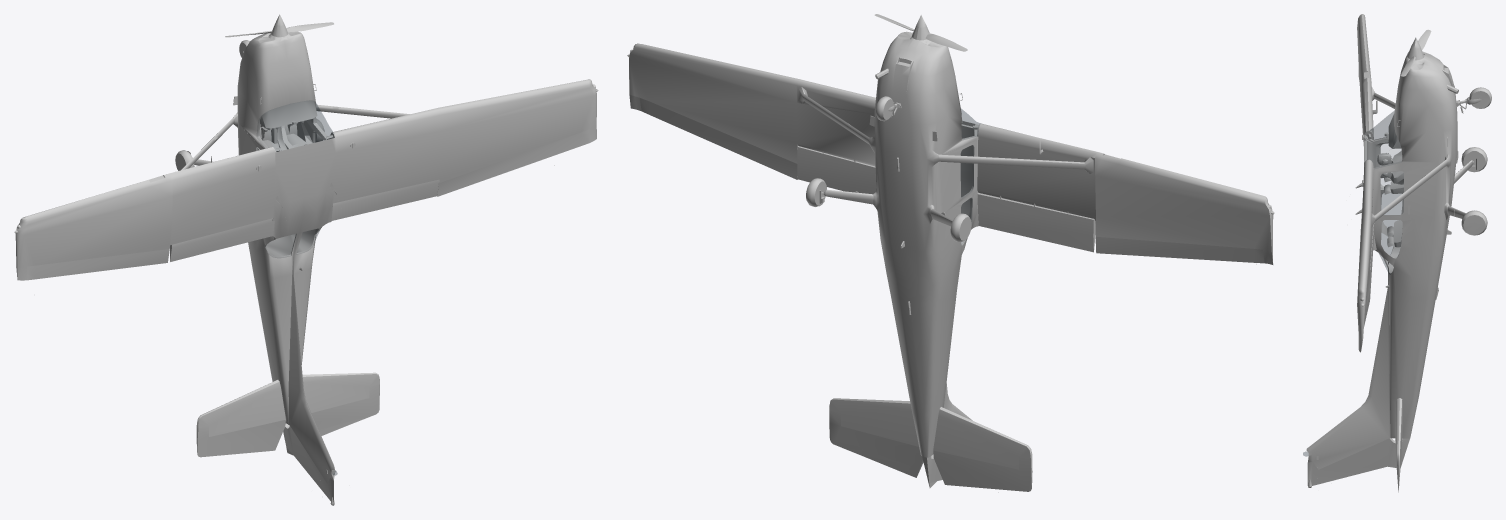
3 renders of one model, left to right at view 1: azimuth 30°, elevation 25°; view 2: azimuth 150°, elevation 25°; view 3: azimuth 270°, elevation 25°, orthographic. The views are drawn at different scales.
Visible parts, largest first — view 1: cessna_172_04, cessna_172_30, cessna_172_41, cessna_172_27, cessna_172_36, cessna_172_32, cessna_172_33, cessna_172_37, cessna_172_29, cessna_172_25; view 2: cessna_172_04, cessna_172_30, cessna_172_33, cessna_172_27, cessna_172_32, cessna_172_29, cessna_172_37, cessna_172_36, cessna_172_16; view 3: cessna_172_04, cessna_172_41, cessna_172_25, cessna_172_30, cessna_172_18, cessna_172_38, cessna_172_06, cessna_172_22, cessna_172_23, cessna_172_21.
Part boxes in pixels (bbox=[...]): cessna_172_04: bbox=[196, 31, 598, 483]; cessna_172_30: bbox=[14, 118, 275, 280]; cessna_172_41: bbox=[257, 101, 337, 475]; cessna_172_27: bbox=[196, 419, 285, 457]; cessna_172_36: bbox=[437, 129, 589, 196]; cessna_172_32: bbox=[27, 249, 169, 280]; cessna_172_33: bbox=[170, 218, 274, 261]; cessna_172_37: bbox=[331, 179, 438, 220]; cessna_172_29: bbox=[311, 384, 379, 435]; cessna_172_25: bbox=[283, 423, 334, 504]; cessna_172_04: bbox=[627, 31, 1032, 469]; cessna_172_30: bbox=[939, 123, 1274, 264]; cessna_172_33: bbox=[977, 193, 1095, 252]; cessna_172_27: bbox=[933, 450, 1032, 491]; cessna_172_32: bbox=[1095, 236, 1264, 263]; cessna_172_29: bbox=[829, 410, 923, 477]; cessna_172_37: bbox=[797, 146, 876, 194]; cessna_172_36: bbox=[640, 98, 797, 179]; cessna_172_16: bbox=[935, 141, 976, 213]; cessna_172_04: bbox=[1306, 51, 1458, 469]; cessna_172_41: bbox=[1303, 111, 1403, 456]; cessna_172_25: bbox=[1307, 438, 1410, 486]; cessna_172_30: bbox=[1357, 14, 1395, 145]; cessna_172_18: bbox=[1461, 210, 1487, 235]; cessna_172_38: bbox=[1407, 29, 1431, 60]; cessna_172_06: bbox=[1469, 87, 1491, 108]; cessna_172_22: bbox=[1461, 147, 1487, 172]; cessna_172_23: bbox=[1454, 151, 1480, 183]; cessna_172_21: bbox=[1377, 151, 1402, 165].
Bounding box in the file's own units: 11.12 × 8.28 × 3.13.
